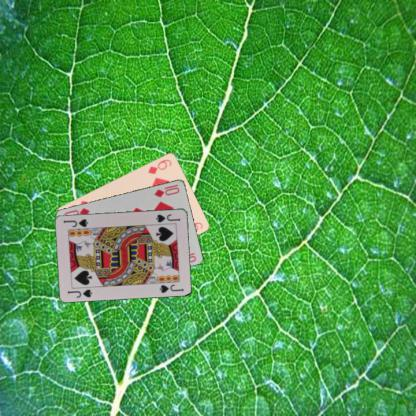10d: (152, 182, 181, 198)
6d: (146, 157, 172, 175)
Js: (65, 286, 94, 298), (154, 212, 181, 223)
